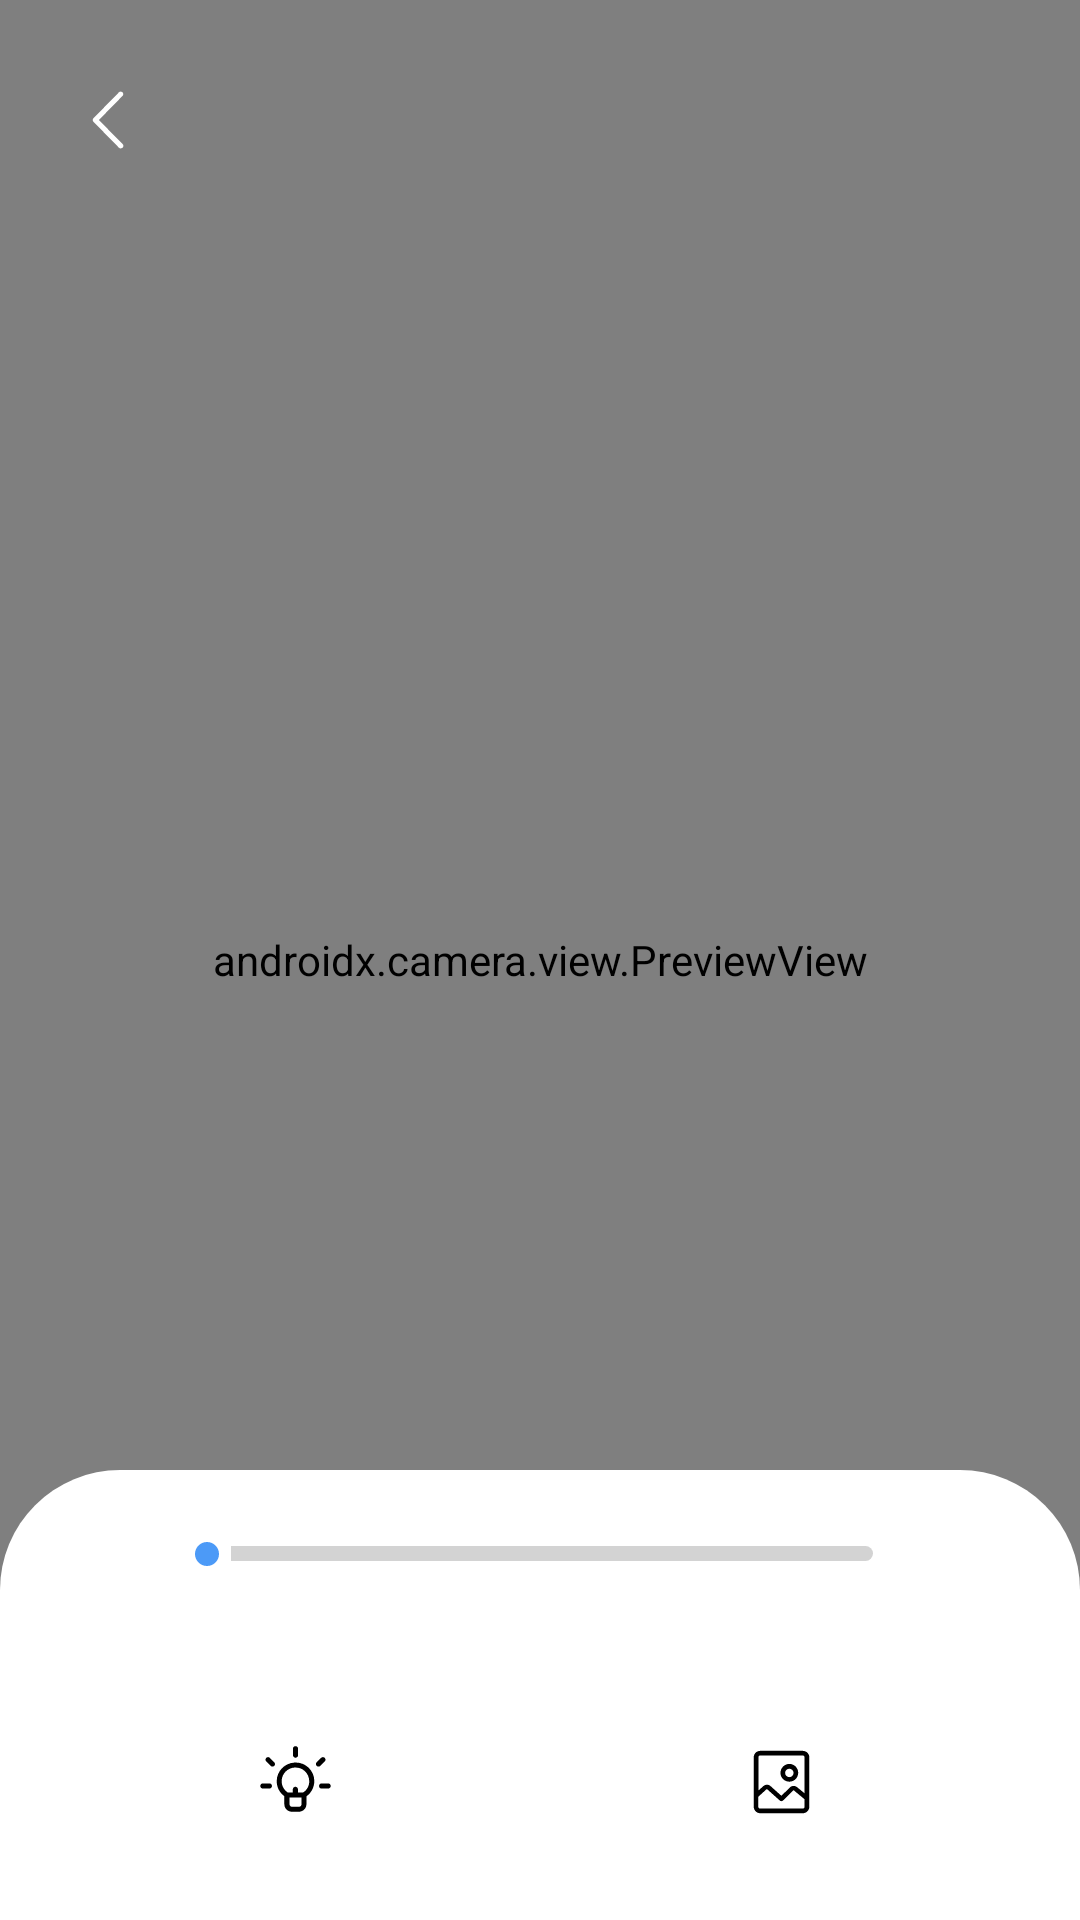

Icon bounding boxes for this 1080px×1920px phone screenshot, format (x1, y1, x2, y2):
back: (93, 91, 124, 149)
photo: (753, 1750, 810, 1814)
